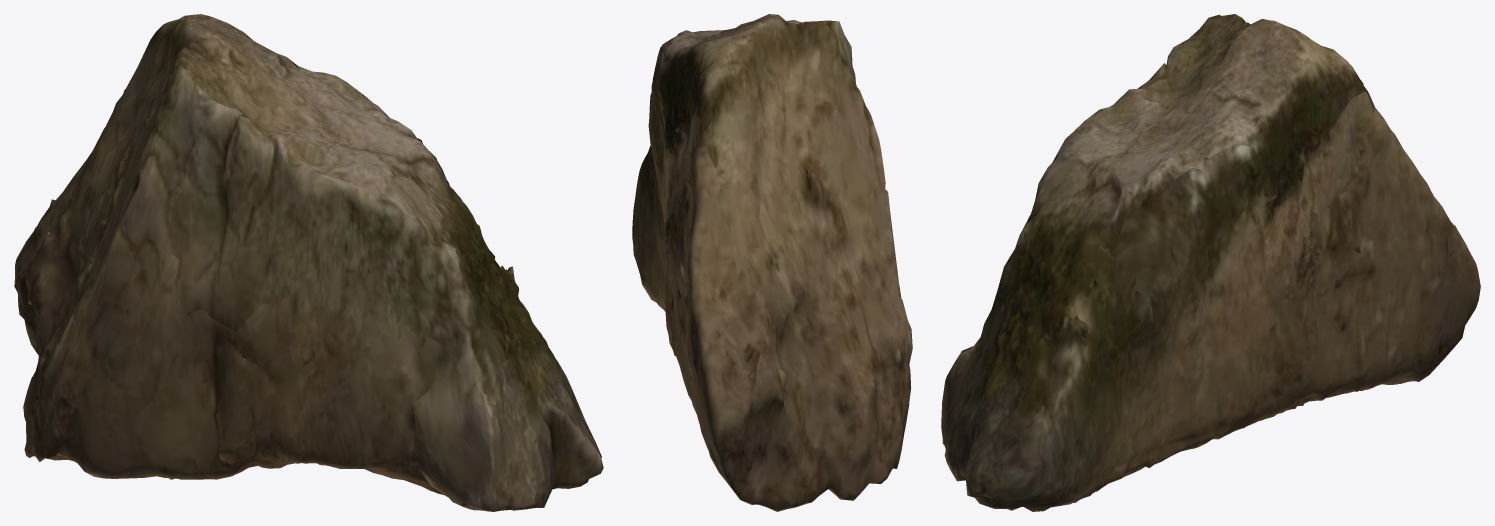
The model's file is stone_b.glb.
3 renders of one model, left to right at view 1: azimuth 30°, elevation 25°; view 2: azimuth 150°, elevation 25°; view 3: azimuth 270°, elevation 25°, orthographic. The views are drawn at different scales.
Visible parts, largest first — view 1: rock_moss_set_01_rock02.001; view 2: rock_moss_set_01_rock02.001; view 3: rock_moss_set_01_rock02.001.
Part boxes in pixels (bbox=[...]): rock_moss_set_01_rock02.001: bbox=[14, 14, 603, 511]; rock_moss_set_01_rock02.001: bbox=[632, 14, 912, 511]; rock_moss_set_01_rock02.001: bbox=[941, 14, 1480, 511].
Bounding box in the file's own units: 2.58 × 2.61 × 3.17.
Materials: 1 (1 with a texture image).
